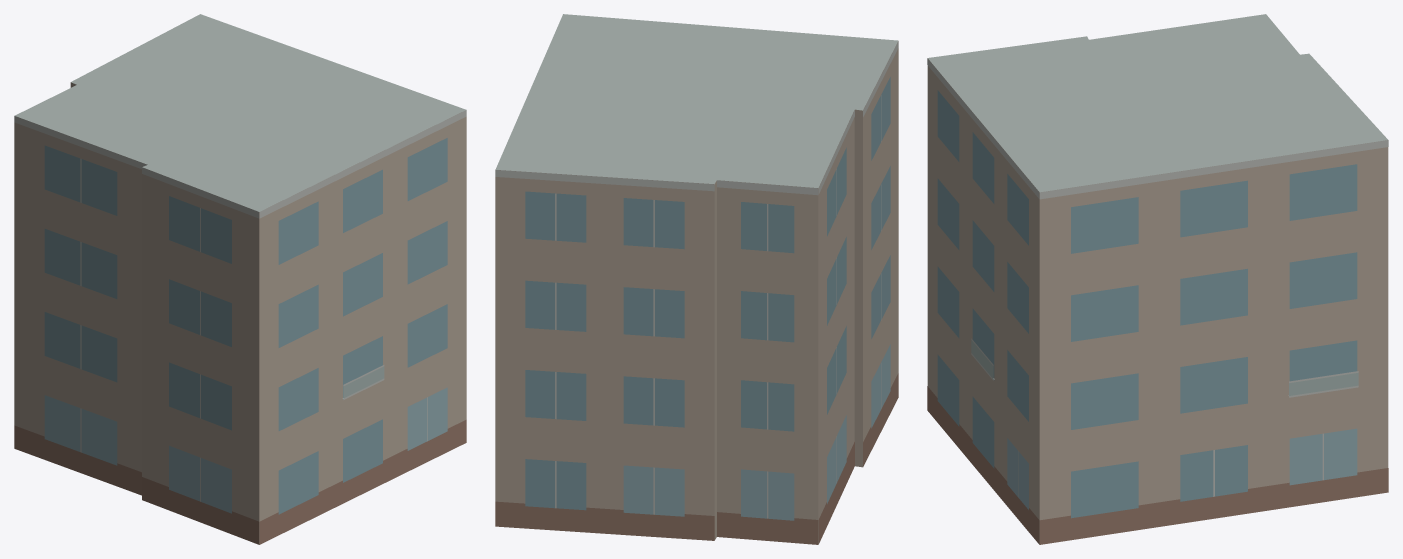
File: survey-upis-32805711.glb
3 views of the same model, side by side, from view 1: azimuth 30°, elevation 25°; view 2: azimuth 150°, elevation 25°; view 3: azimuth 270°, elevation 25° (orthographic). The views are drawn at different scales.
Parts seen in each view (by area): view 1: survey-upis-32805711.tmp; view 2: survey-upis-32805711.tmp; view 3: survey-upis-32805711.tmp.
Boxes of the visible parts, x1,y1,x2,y2 form: survey-upis-32805711.tmp: (14,14,466,544); survey-upis-32805711.tmp: (495,14,898,544); survey-upis-32805711.tmp: (927,14,1388,544).
Size of the model in its own units: 13.25 by 12.2 by 14.47.
